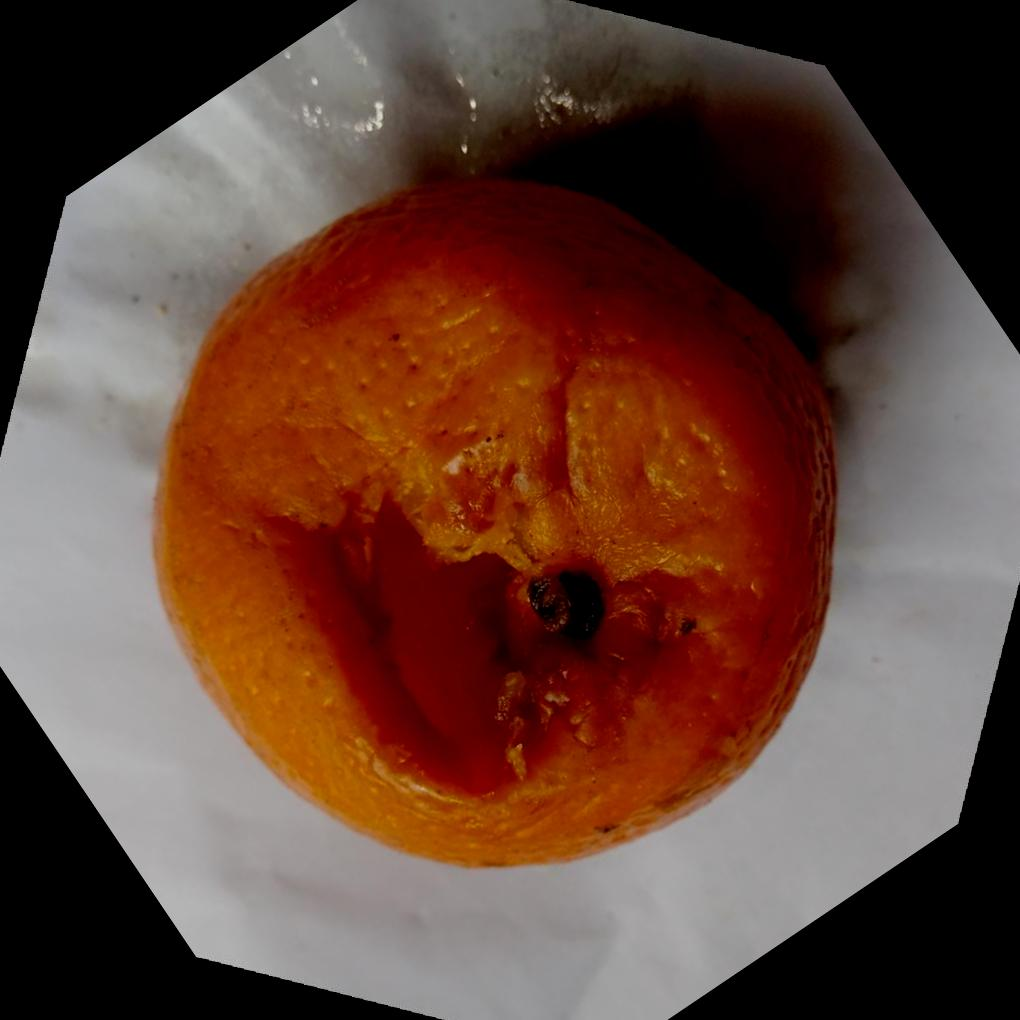FreshOrange: (152, 171, 844, 868)
